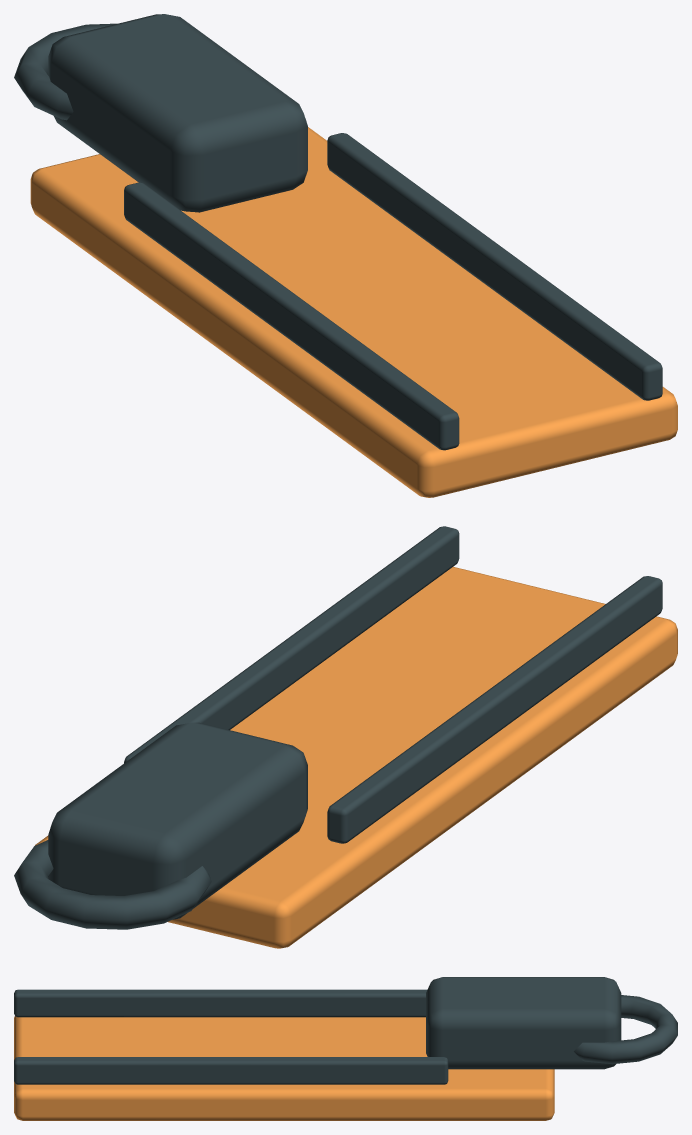
Rendered from dive-fin-right.glb.
The picture shows the model from 3 angles, top to bottom: view 1: azimuth 30°, elevation 25°; view 2: azimuth 150°, elevation 25°; view 3: azimuth 270°, elevation 25°; orthographic projection. The views are drawn at different scales.
Visible parts, largest first — view 1: dive-fin-right; view 2: dive-fin-right; view 3: dive-fin-right.
Boxes of the visible parts, left/top/right/bottom form: dive-fin-right: left=14, top=14, right=677, bottom=497; dive-fin-right: left=14, top=526, right=677, bottom=948; dive-fin-right: left=14, top=977, right=677, bottom=1120.
Bounding box in the file's own units: 0.23 × 0.11 × 0.7491.
